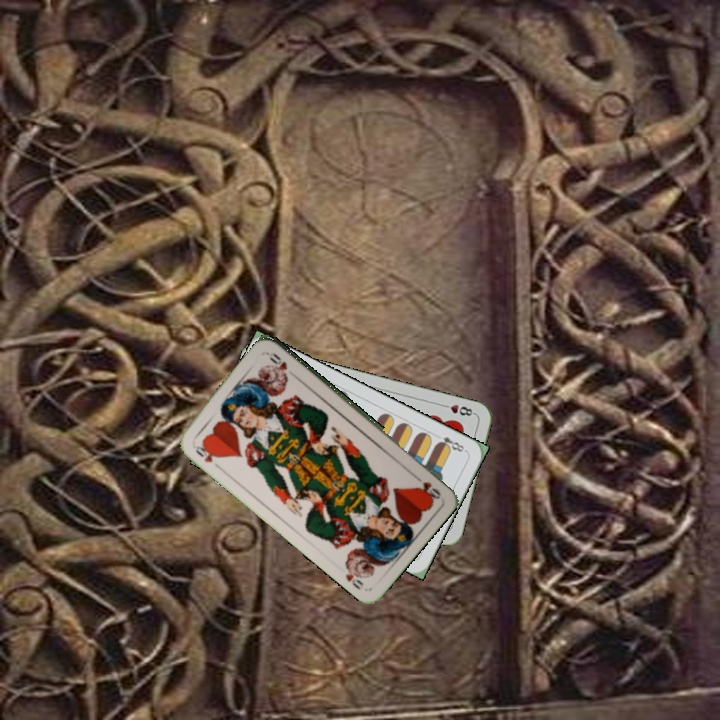E8: (432, 430, 469, 455)
H8: (437, 400, 477, 419)
HO: (409, 470, 444, 502), (189, 440, 222, 465)
